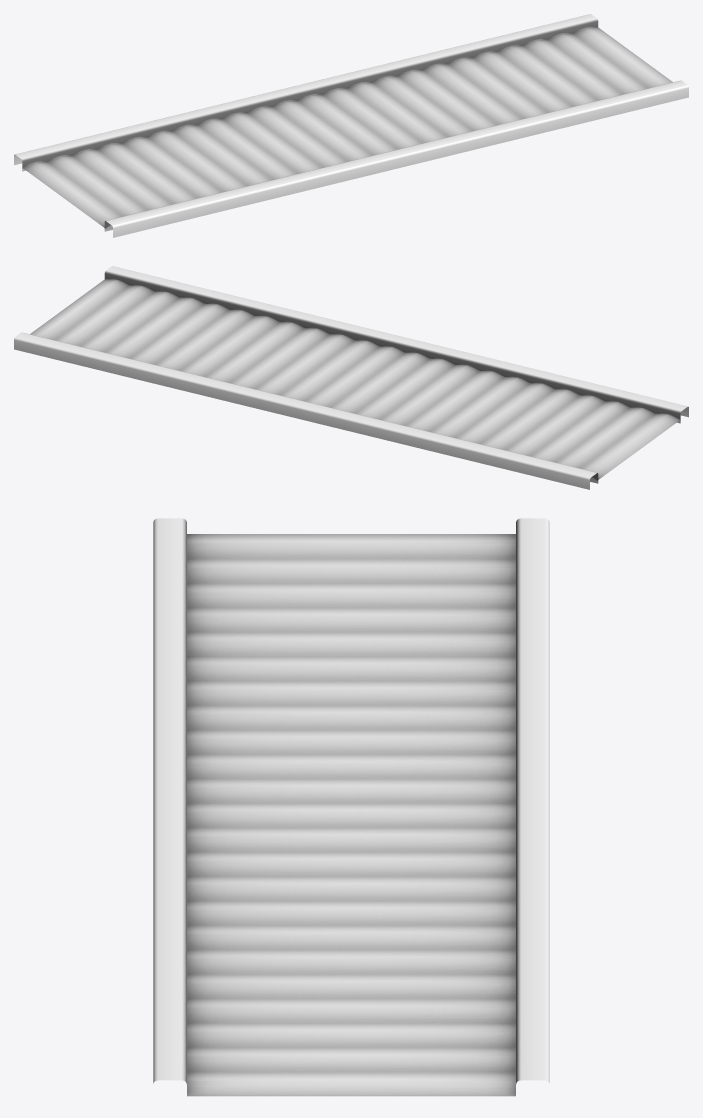
Rendered from Conveyor_asset.fbx.
3 views of the same model, one above another, from view 1: azimuth 30°, elevation 25°; view 2: azimuth 150°, elevation 25°; view 3: azimuth 270°, elevation 25° (orthographic). The views are drawn at different scales.
Visible parts, largest first — view 1: Conveyor_low; view 2: Conveyor_low; view 3: Conveyor_low.
Boxes of the visible parts, box(x1,y1,x2,y2) form: Conveyor_low: box(14, 14, 688, 237); Conveyor_low: box(14, 266, 688, 489); Conveyor_low: box(153, 518, 549, 1096).
Bounding box in the file's own units: 1020 × 304 × 19.59.
